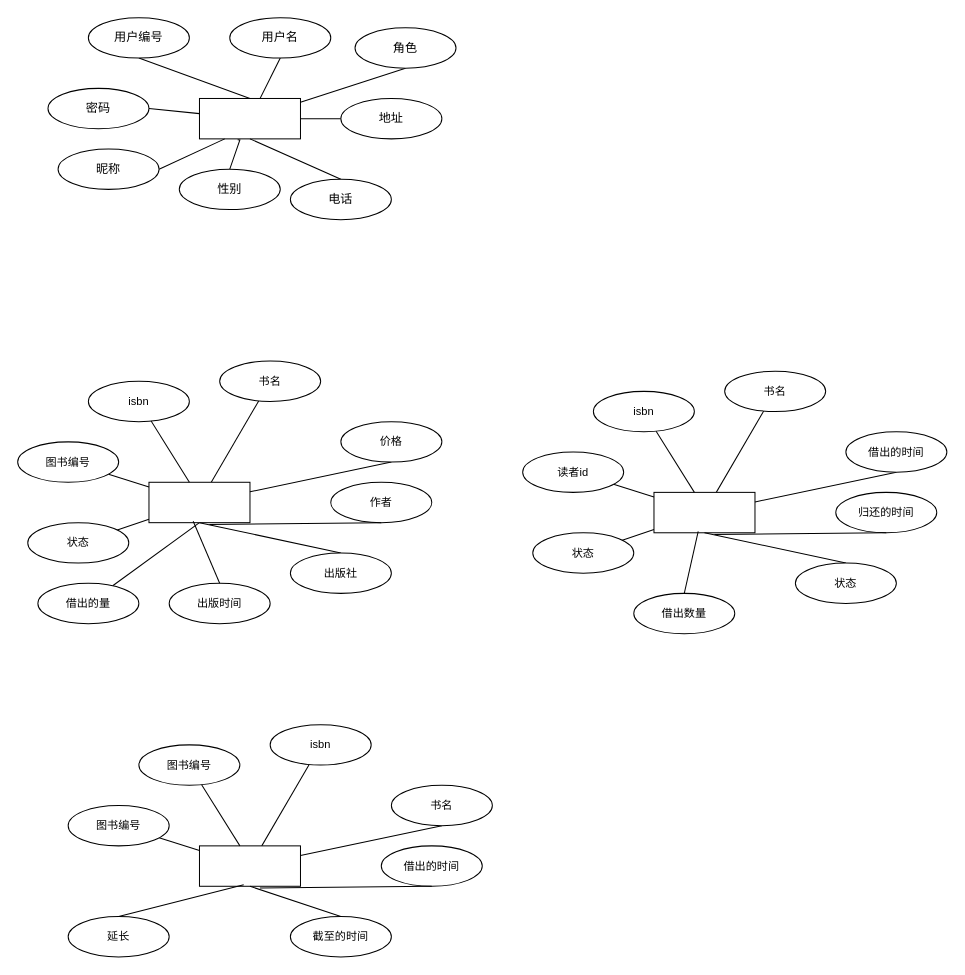
Some shapes in this 965 by 975 pixel diagram are drawn without their labels. Each missing label, with the box of its shape:
借阅记录: (653, 491, 755, 533)
图书: (148, 481, 250, 523)
用户: (198, 97, 300, 139)
用户图书: (198, 845, 300, 886)
